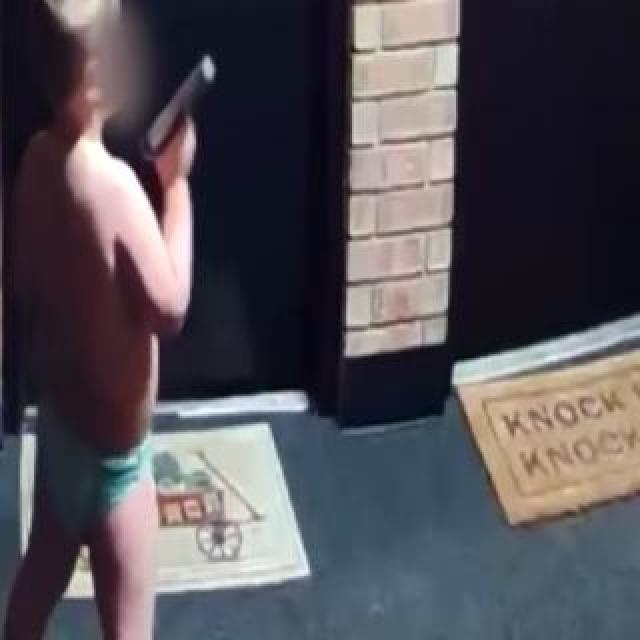Guns: (126, 31, 232, 198)
